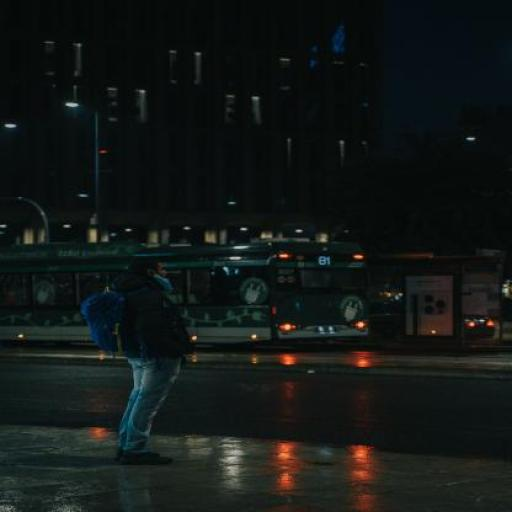street light: (65, 100, 110, 318), (0, 123, 20, 133)
